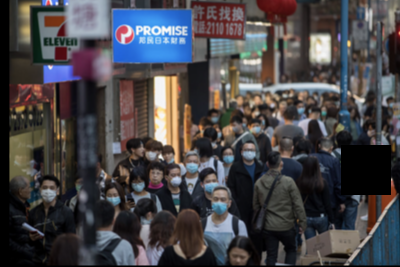mask_weared_incorrect: (162, 153, 174, 163)
with_mask: (212, 195, 229, 215), (40, 184, 57, 203), (203, 177, 219, 194), (106, 192, 122, 208), (168, 171, 183, 187), (242, 146, 257, 162), (185, 157, 199, 174), (131, 179, 146, 192), (144, 148, 158, 161), (223, 151, 235, 163), (231, 123, 242, 133), (251, 124, 261, 135), (296, 104, 306, 114), (210, 113, 219, 124), (367, 128, 377, 137), (76, 179, 83, 191), (321, 108, 328, 116)
without_mask: (230, 246, 249, 265), (151, 169, 164, 183), (23, 183, 31, 199), (135, 144, 145, 156)
